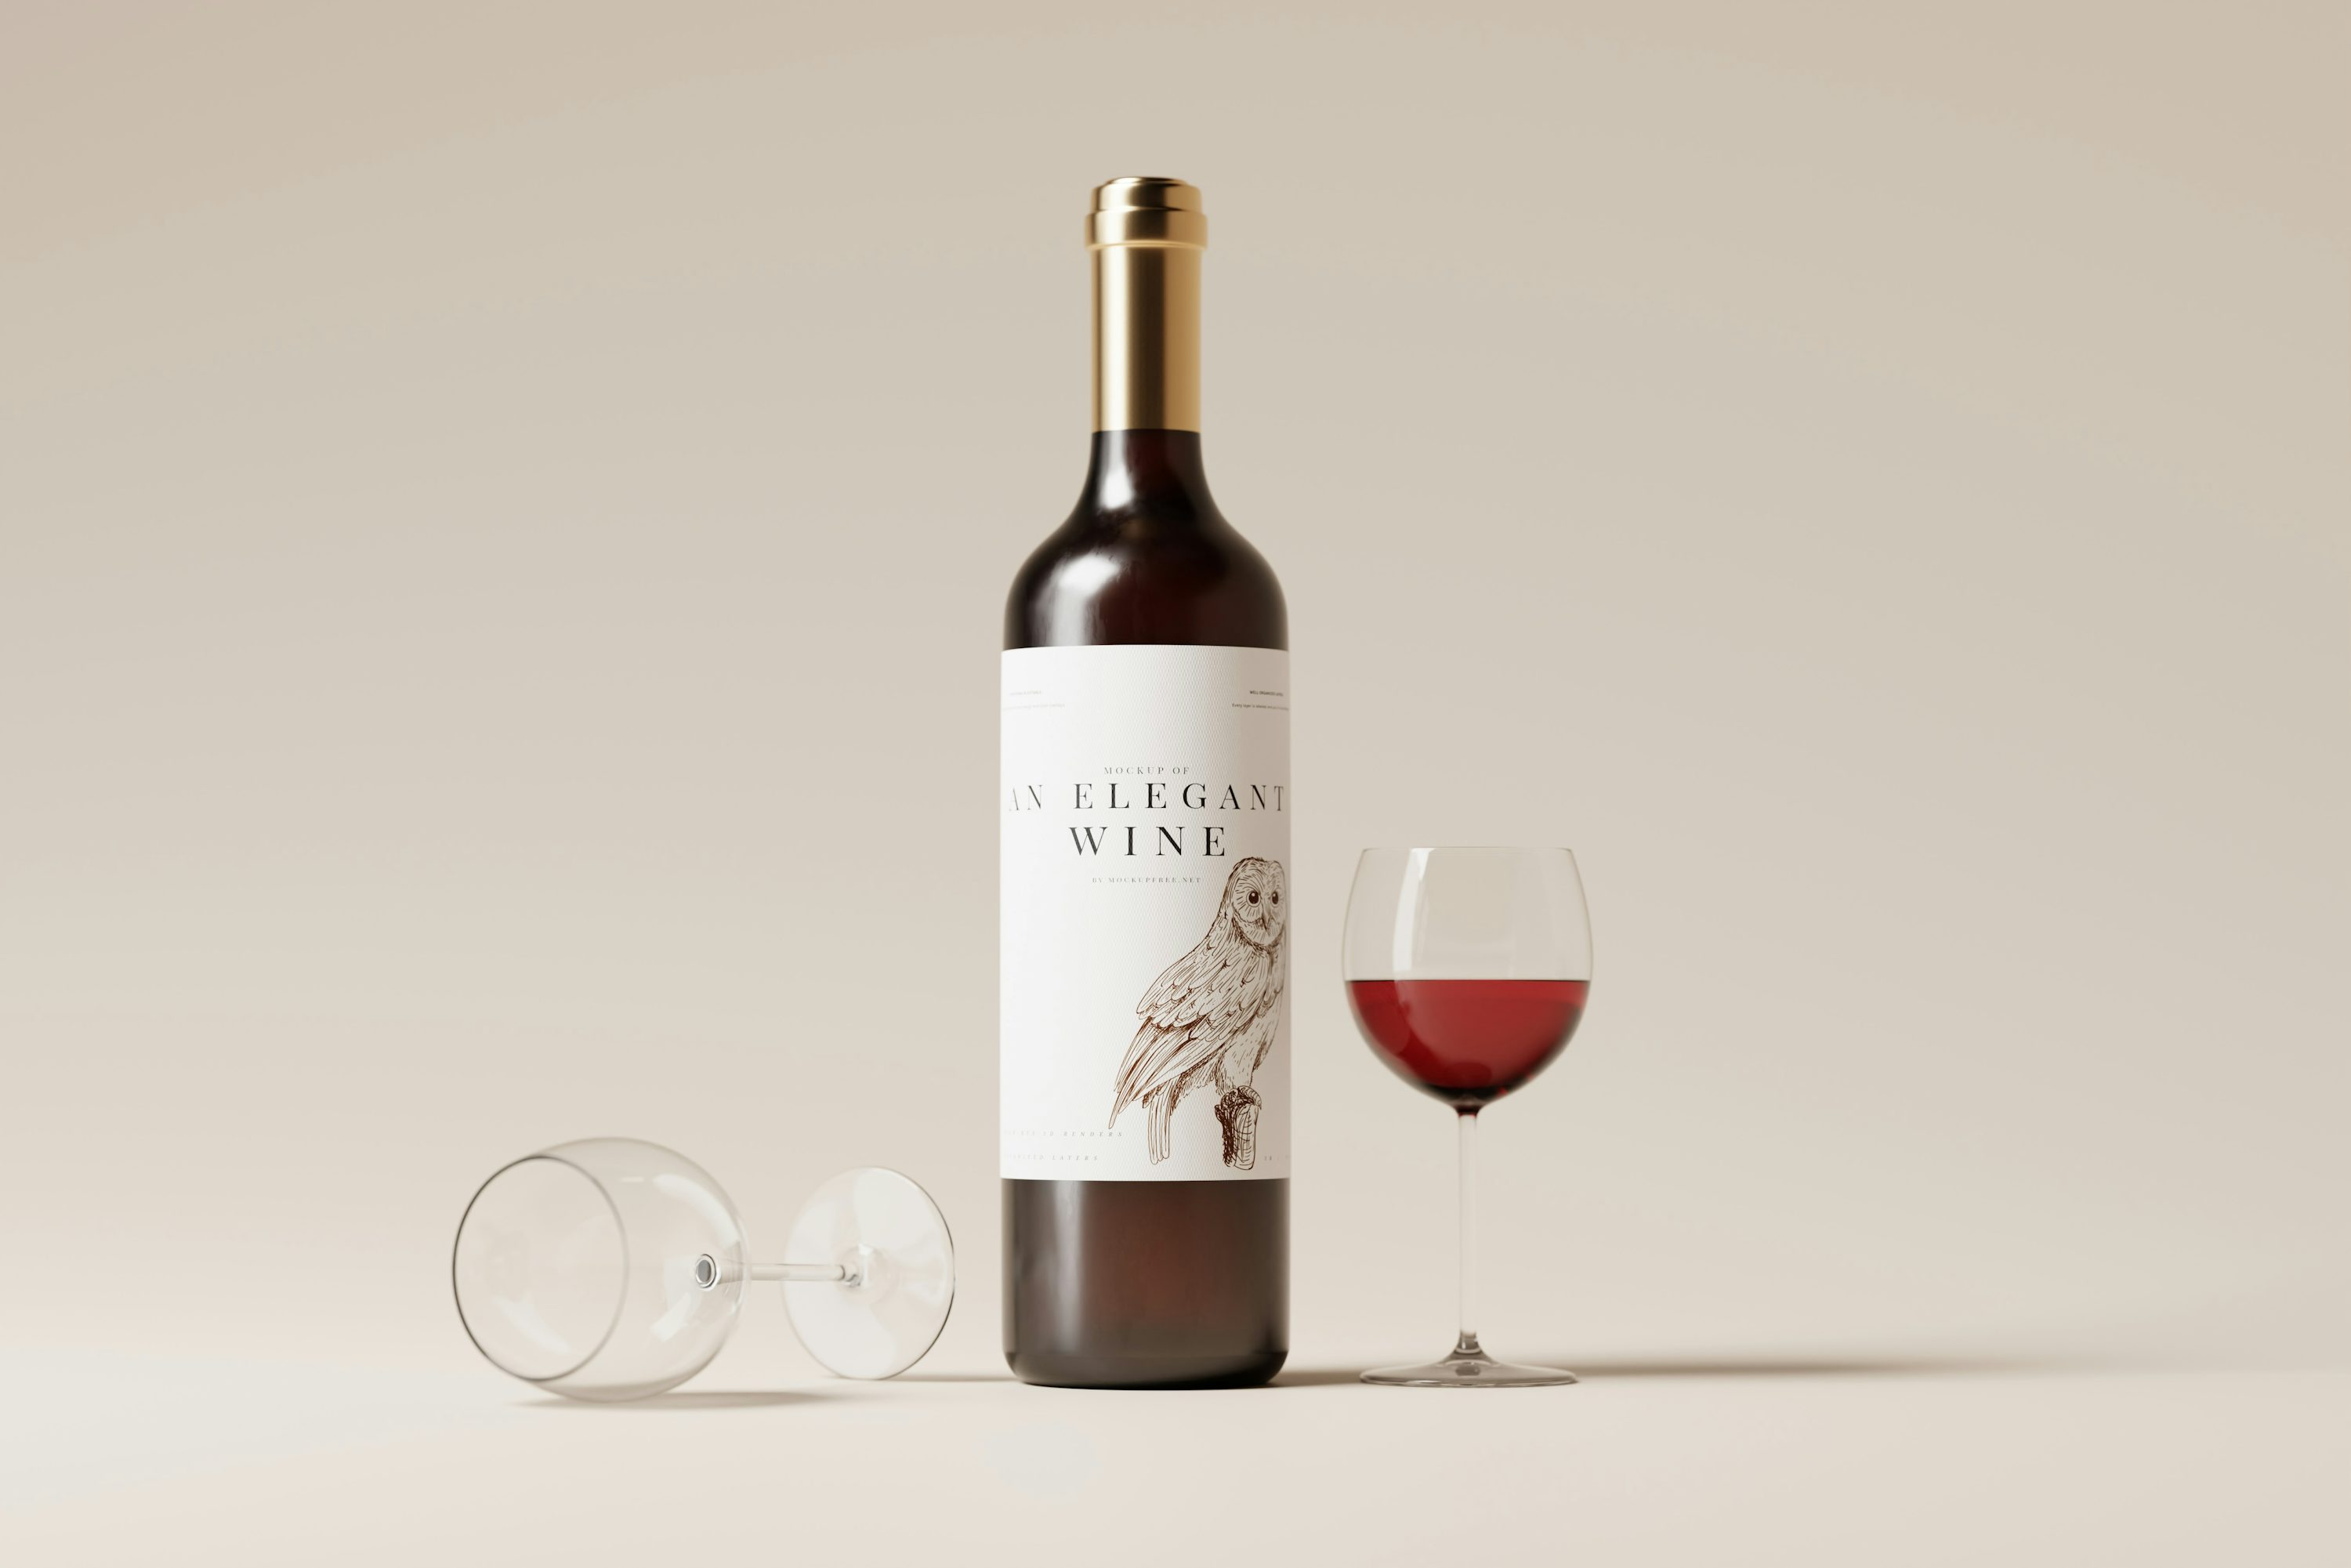glass_bottle: (962, 157, 1324, 1430)
